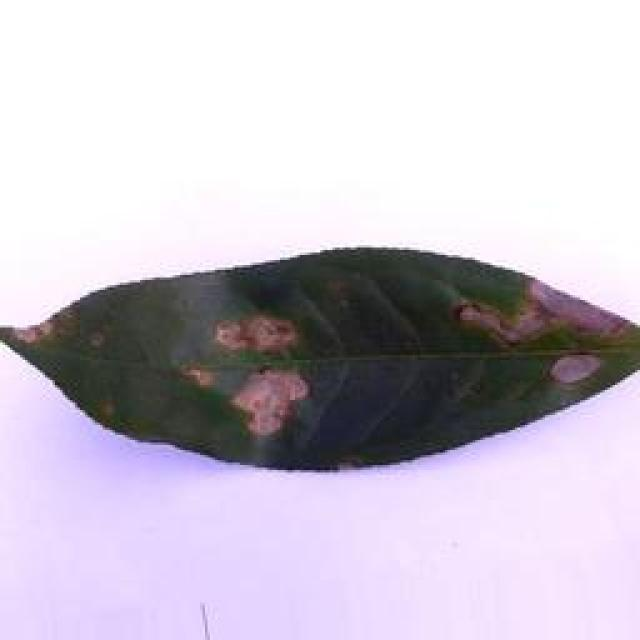Gray Blight: (0, 246, 640, 475)
